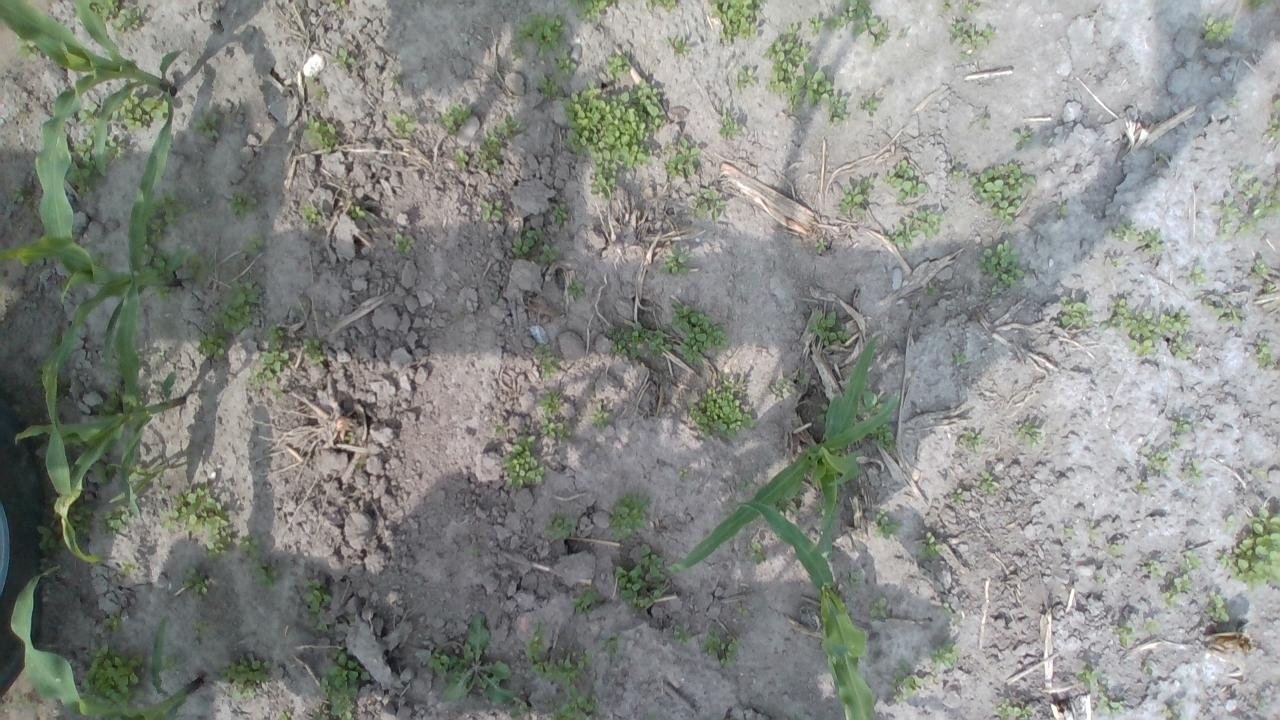Maize: (0, 88, 188, 562), (666, 332, 904, 574), (17, 278, 186, 570), (0, 0, 179, 250), (732, 494, 878, 720), (12, 565, 205, 720)
Weeds: (564, 78, 668, 173), (426, 612, 514, 705), (159, 484, 230, 562), (1219, 506, 1280, 592), (688, 372, 756, 442), (968, 162, 1038, 224), (762, 22, 808, 115), (78, 644, 144, 708), (316, 649, 374, 720), (142, 193, 191, 275), (670, 301, 729, 368), (613, 545, 669, 612), (1102, 297, 1160, 358), (248, 327, 292, 402), (474, 114, 526, 172), (832, 0, 890, 50), (975, 241, 1024, 296), (606, 320, 673, 360), (708, 0, 766, 45), (499, 433, 544, 490), (212, 282, 260, 335), (514, 11, 566, 59), (64, 131, 98, 204), (528, 650, 590, 690), (886, 207, 942, 250), (110, 90, 168, 131), (218, 657, 272, 701), (882, 159, 928, 205), (948, 19, 994, 64), (608, 494, 652, 540), (300, 576, 334, 632), (1240, 187, 1280, 234), (808, 305, 852, 347), (538, 391, 572, 441), (700, 626, 740, 668), (550, 688, 600, 720), (665, 136, 702, 178), (890, 660, 924, 703), (838, 177, 874, 217), (67, 498, 96, 546), (802, 61, 831, 109), (1056, 294, 1092, 330), (691, 188, 728, 223), (1202, 298, 1244, 327), (304, 116, 337, 152), (34, 519, 66, 556), (439, 99, 471, 134), (196, 328, 229, 360), (101, 504, 131, 537), (1230, 167, 1260, 200), (872, 507, 902, 540), (1216, 195, 1240, 236), (230, 189, 258, 224), (511, 227, 542, 258), (567, 0, 607, 24), (190, 106, 218, 140), (544, 512, 578, 540), (572, 589, 607, 616), (187, 254, 217, 285), (1160, 308, 1194, 335), (179, 564, 208, 595), (826, 92, 852, 126), (856, 388, 885, 418), (248, 562, 276, 593), (870, 421, 896, 454), (98, 383, 124, 416), (1163, 578, 1191, 608), (238, 533, 264, 565), (1204, 590, 1230, 622), (1202, 15, 1234, 41), (930, 644, 959, 672), (1016, 420, 1044, 448), (918, 530, 944, 560), (535, 344, 557, 378), (526, 620, 545, 659), (112, 8, 140, 34), (1168, 334, 1196, 360), (132, 462, 158, 490), (1170, 417, 1192, 450), (388, 110, 418, 134), (1139, 229, 1165, 256), (330, 46, 358, 71), (1182, 456, 1206, 485), (600, 630, 624, 659), (661, 252, 690, 276), (590, 173, 616, 199), (536, 72, 561, 98), (13, 32, 36, 60), (991, 704, 1031, 720), (719, 112, 740, 142), (76, 102, 100, 128), (390, 232, 416, 256), (607, 54, 631, 80), (1094, 696, 1122, 718), (1107, 222, 1136, 243), (508, 694, 531, 720), (302, 337, 324, 364), (1148, 449, 1170, 476), (1254, 340, 1275, 368), (1012, 127, 1036, 151), (106, 136, 128, 162), (88, 0, 118, 19), (774, 373, 809, 389), (1077, 669, 1102, 691), (940, 601, 962, 626), (978, 470, 999, 496), (153, 280, 175, 304), (556, 50, 576, 76), (242, 232, 264, 255), (481, 200, 504, 222), (1179, 549, 1201, 572), (735, 67, 756, 90), (305, 75, 326, 98), (1186, 265, 1208, 286), (119, 558, 141, 579), (669, 34, 690, 56), (15, 187, 35, 210), (588, 405, 608, 428), (93, 461, 113, 484), (1162, 701, 1186, 720), (538, 245, 562, 264), (90, 250, 112, 270), (674, 626, 694, 648), (1117, 624, 1136, 647), (960, 430, 984, 448), (1141, 558, 1161, 579), (869, 599, 889, 620), (103, 614, 123, 634), (565, 278, 585, 298), (158, 654, 176, 676), (1250, 255, 1268, 277), (552, 202, 570, 224), (813, 403, 829, 427), (778, 499, 799, 517), (861, 96, 880, 115), (189, 616, 209, 634), (642, 0, 678, 10), (303, 204, 321, 224), (453, 150, 470, 170), (750, 541, 766, 562), (42, 563, 64, 578), (808, 15, 825, 34), (1268, 118, 1280, 142), (348, 204, 368, 218), (950, 353, 970, 367), (962, 0, 979, 16), (1135, 478, 1150, 496), (1144, 618, 1160, 634), (950, 487, 966, 503), (1106, 543, 1124, 557), (1246, 0, 1267, 10), (741, 480, 758, 492), (830, 446, 847, 458), (815, 238, 828, 253), (135, 350, 145, 369), (845, 572, 858, 586), (278, 709, 294, 720), (679, 468, 691, 482), (951, 168, 965, 180), (1262, 281, 1276, 292), (980, 116, 991, 130), (1056, 205, 1068, 217), (1091, 574, 1104, 585), (1106, 258, 1120, 268), (1142, 662, 1153, 674), (1060, 527, 1073, 537), (940, 0, 953, 10), (1226, 98, 1239, 108), (926, 286, 936, 298), (644, 710, 656, 720), (156, 351, 166, 362), (335, 0, 346, 10), (1271, 97, 1280, 108), (468, 548, 480, 556), (740, 607, 749, 617), (816, 504, 824, 515), (495, 424, 504, 432)
